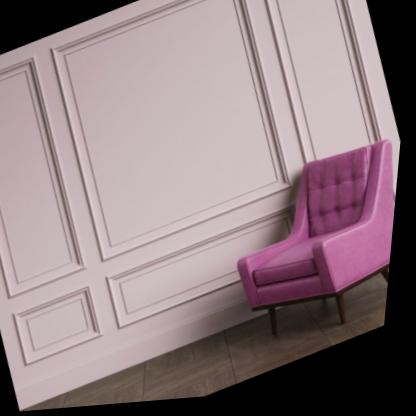Futec frame: (22, 0, 342, 357), (224, 0, 416, 284), (0, 37, 140, 397)
